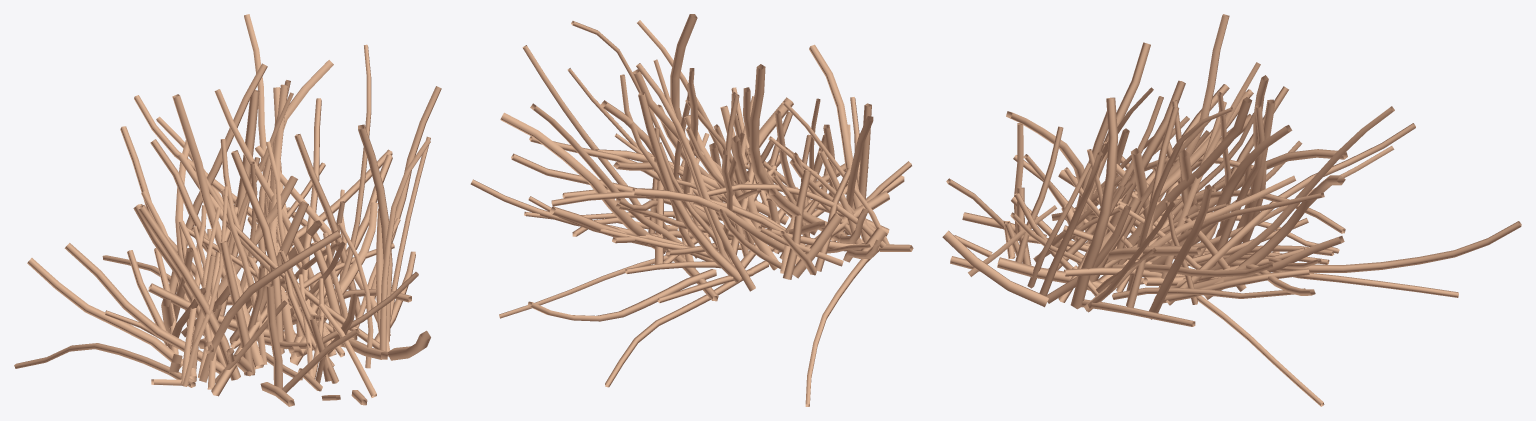
The model's file is brushwood.fbx.
3 views of the same model, side by side, from view 1: azimuth 30°, elevation 25°; view 2: azimuth 150°, elevation 25°; view 3: azimuth 270°, elevation 25° (orthographic). The views are drawn at different scales.
Parts seen in each view (by area): view 1: brushwood; view 2: brushwood; view 3: brushwood.
Boxes of the visible parts, <box> form: brushwood: <box>14,14,441,406</box>; brushwood: <box>470,14,913,406</box>; brushwood: <box>942,14,1521,406</box>.
Bounding box in the file's own units: 11.67 × 8.18 × 14.77.
